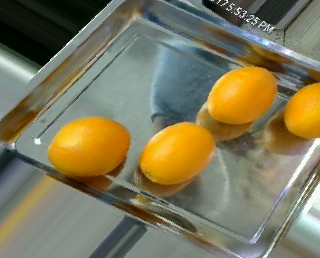Orange: (47, 116, 131, 176), (140, 121, 215, 185), (205, 66, 277, 124)
